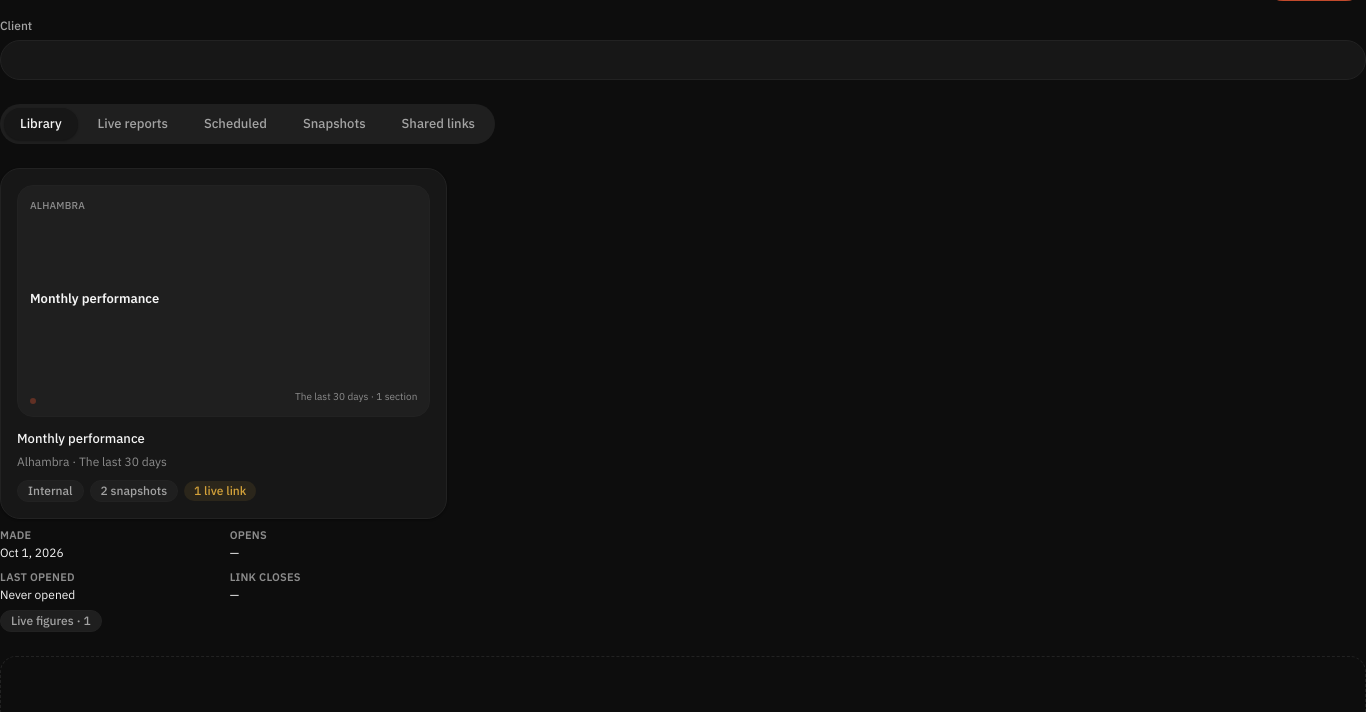
reading a report › says why there are no change figures, in their place
The image size is (1366, 712).
Click the button "Monthly performance".
click(224, 343)  # box [0,168,447,519]
(page scrolled)
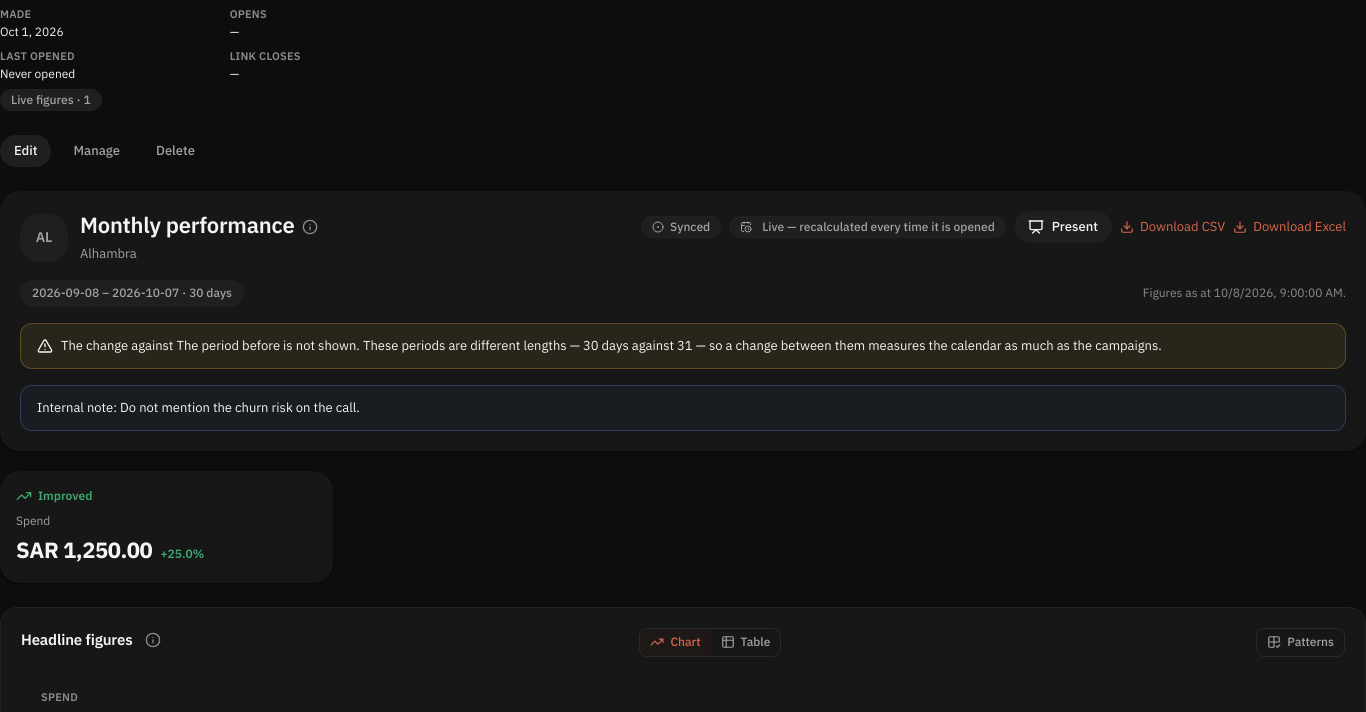
Check: the text "measures the calendar as much as the campaigns" is shown, box [363,336,1162,355]
